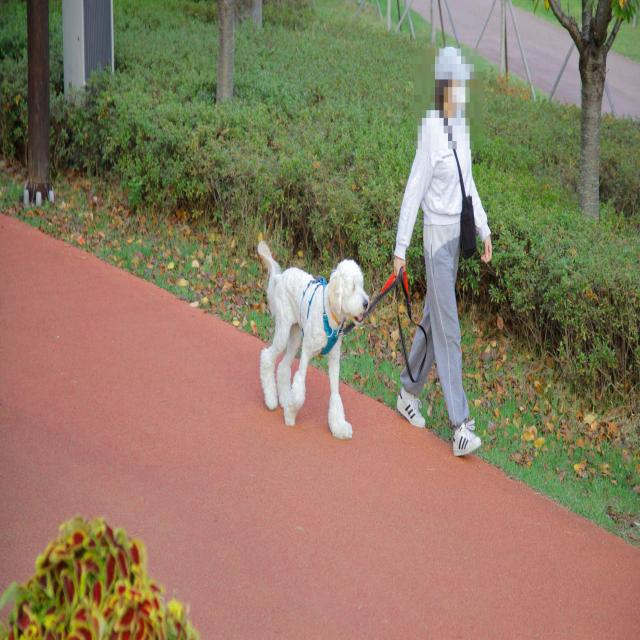Leashed_Dog: (258, 240, 430, 441)
